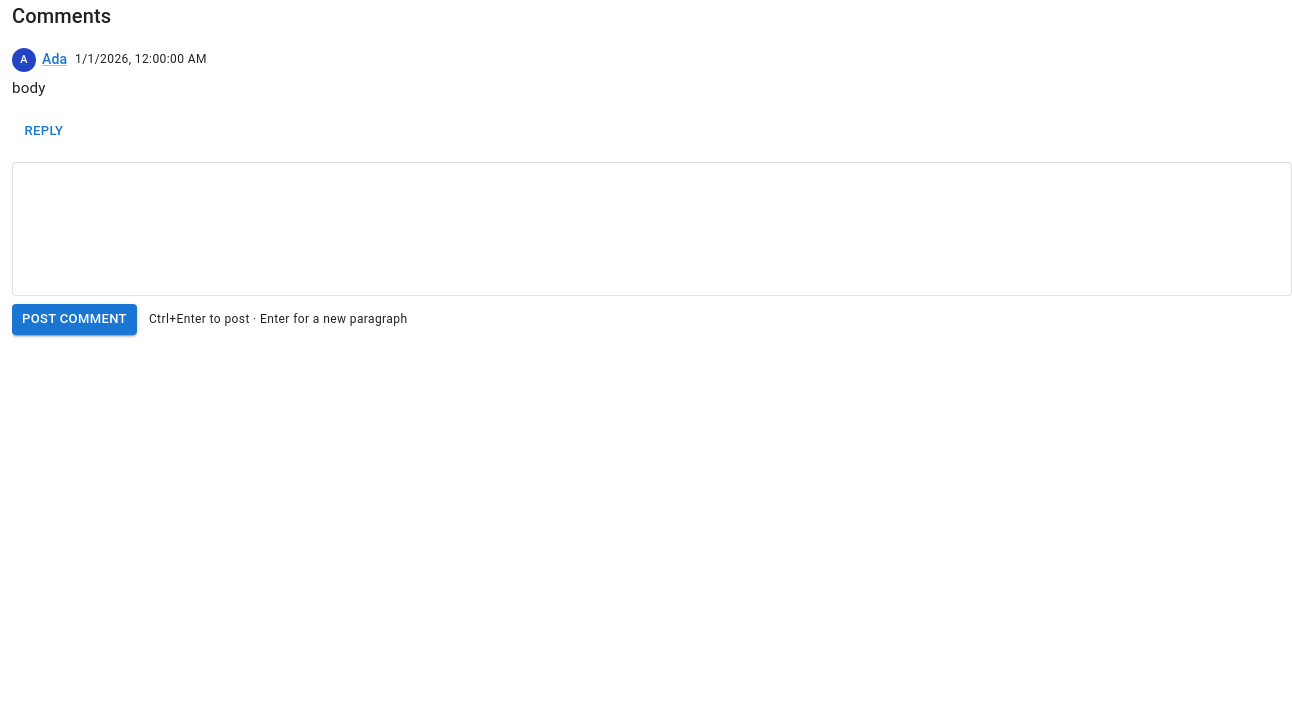
Test: Comments — compact composers › marks the reply composer compact, and leaves rendered comment bodies alone
This screenshot has width=1292, height=720.
Expected: the number of elements with class "rw-editor-compact" is 1, [12,162,1291,296]
Click the button "Reply": (44, 131) [12,116,76,146]
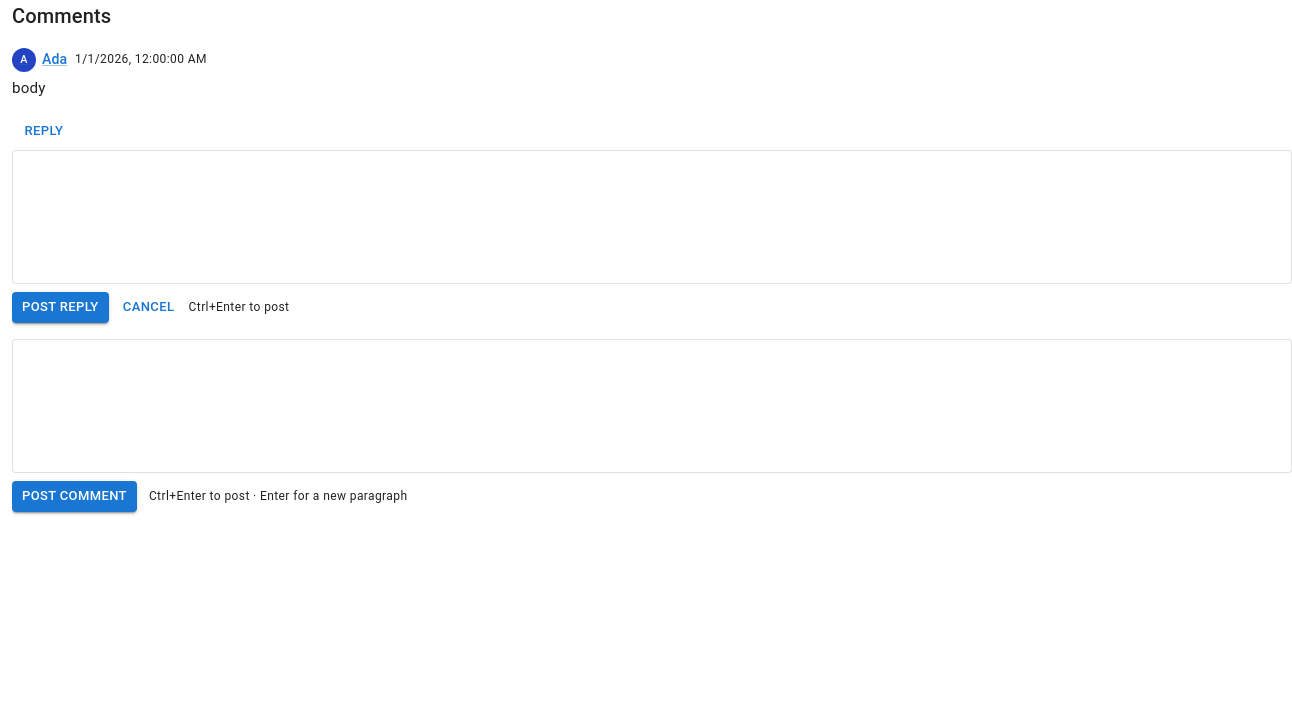
Now the number of elements with class "rw-editor-compact" is 2, box [12,150,1291,284]; [12,339,1291,473]
